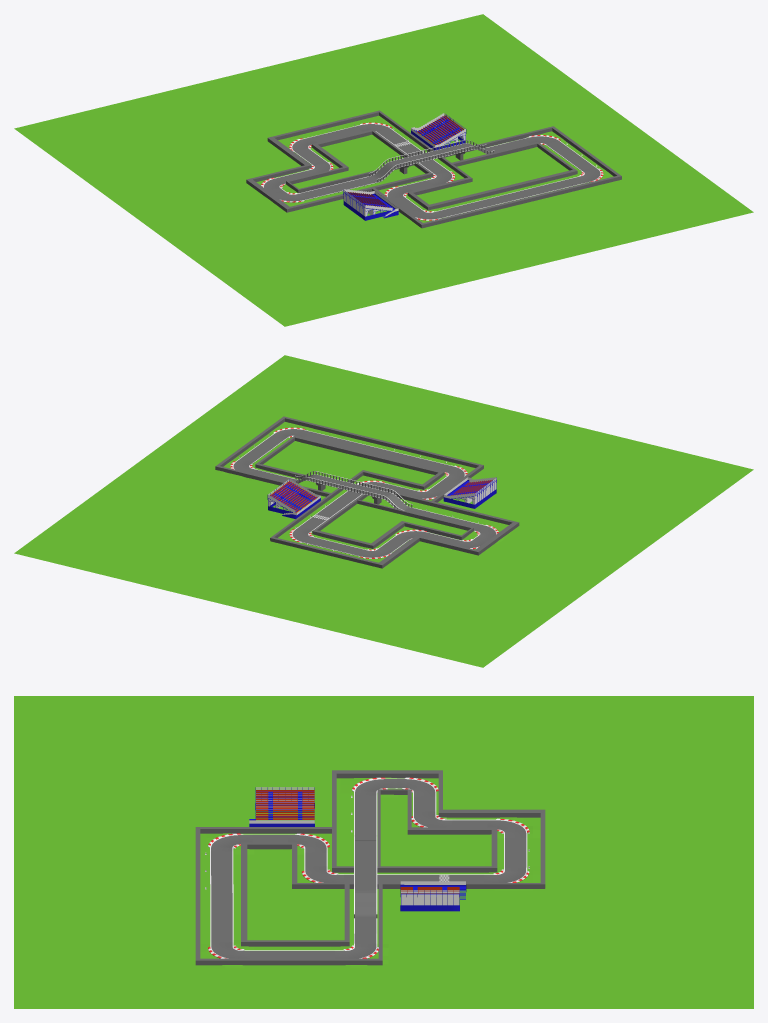
The model's file is RaceTrack1.fbx.
The picture shows the model from 3 angles, top to bottom: view 1: azimuth 30°, elevation 25°; view 2: azimuth 150°, elevation 25°; view 3: azimuth 270°, elevation 25°; orthographic projection. The views are drawn at different scales.
Parts seen in each view (by area): view 1: RaceTrack1; view 2: RaceTrack1; view 3: RaceTrack1.
Boxes of the visible parts, left/top/right/bottom form: RaceTrack1: left=14, top=14, right=753, bottom=326; RaceTrack1: left=14, top=355, right=753, bottom=667; RaceTrack1: left=14, top=696, right=753, bottom=1008.
Size of the model in its own units: 90936 by 3205 by 90936.
